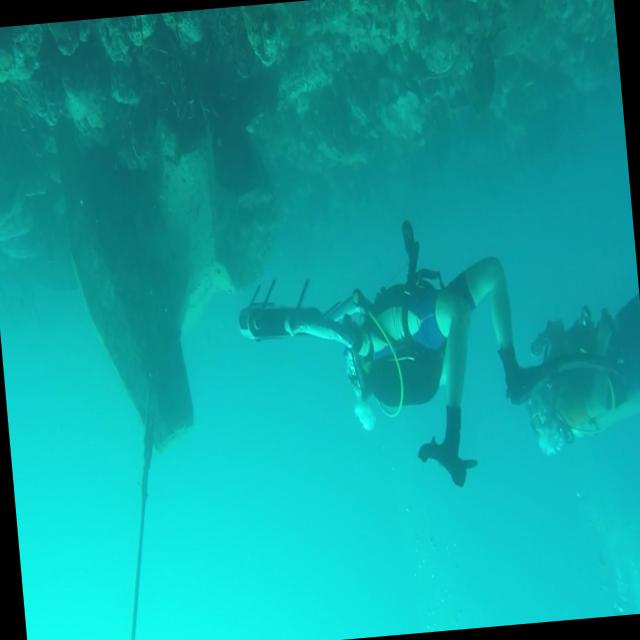human: (328, 211, 534, 498), (495, 291, 640, 462)
